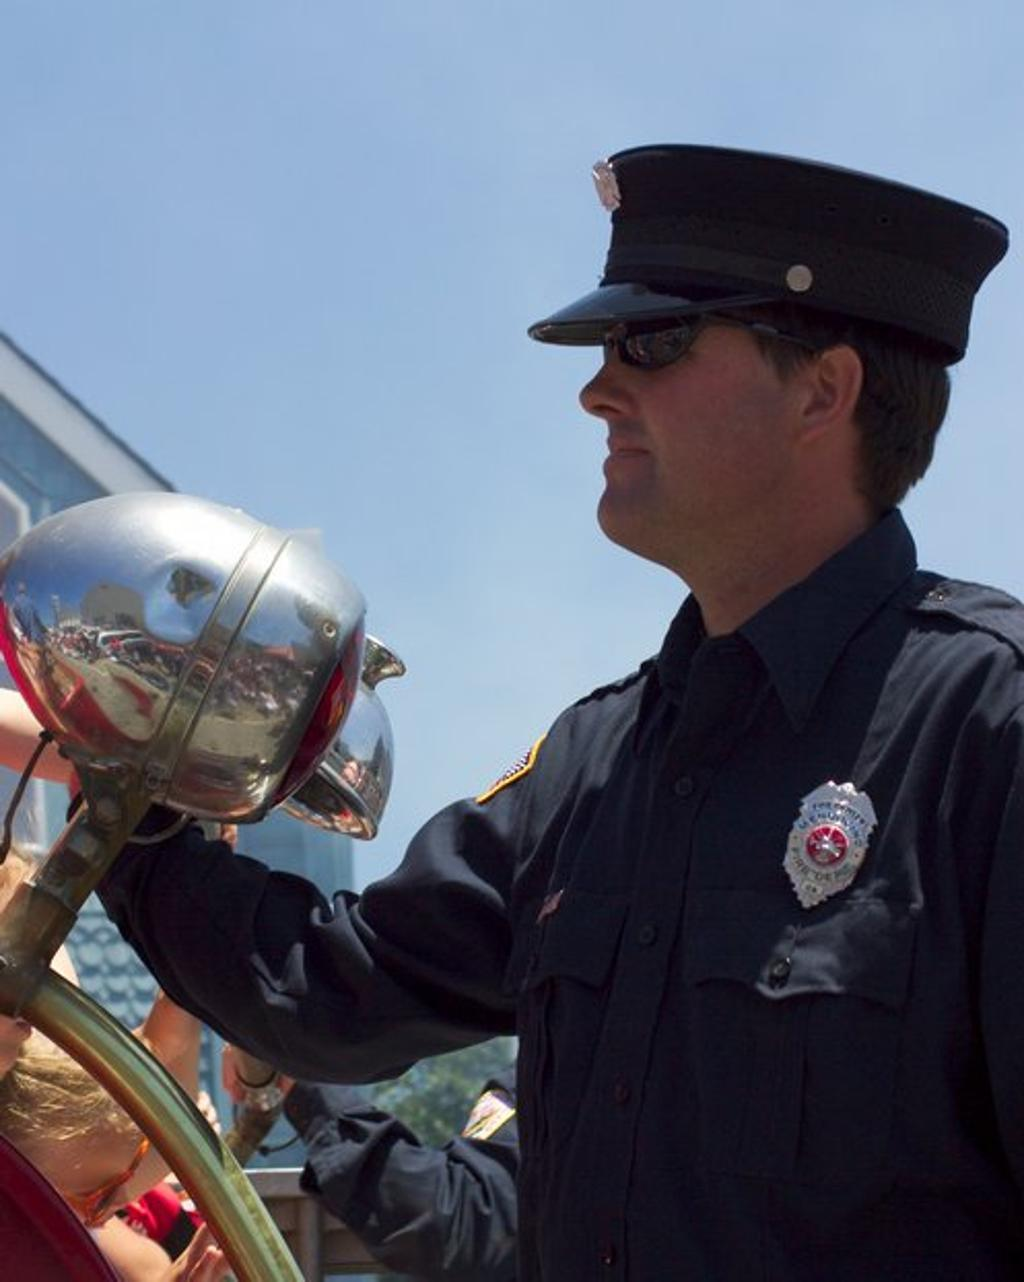face: (582, 266, 810, 534)
